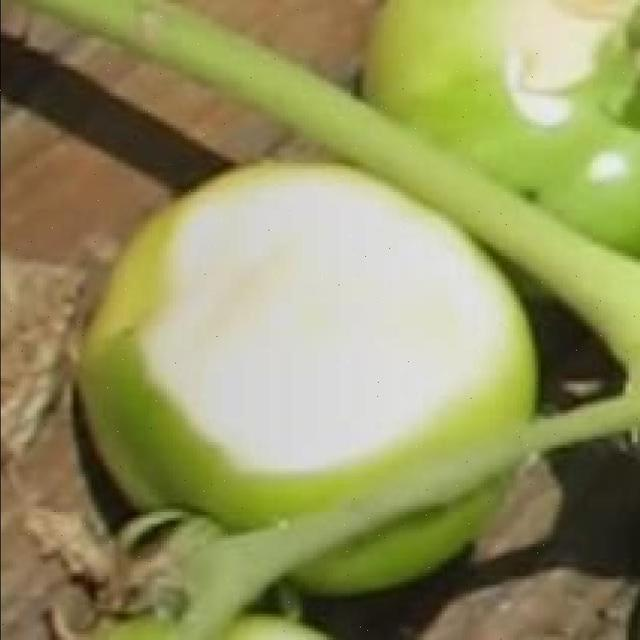Sunscald Fruit: (97, 44, 376, 212)
